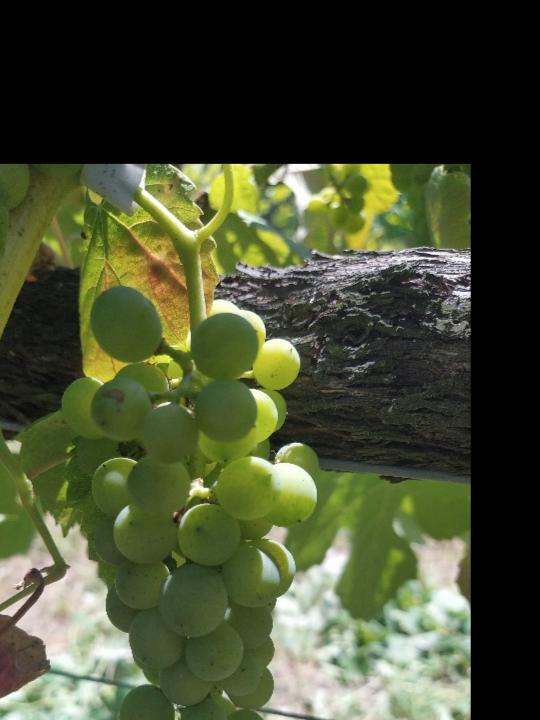grape: (61, 287, 325, 720)
